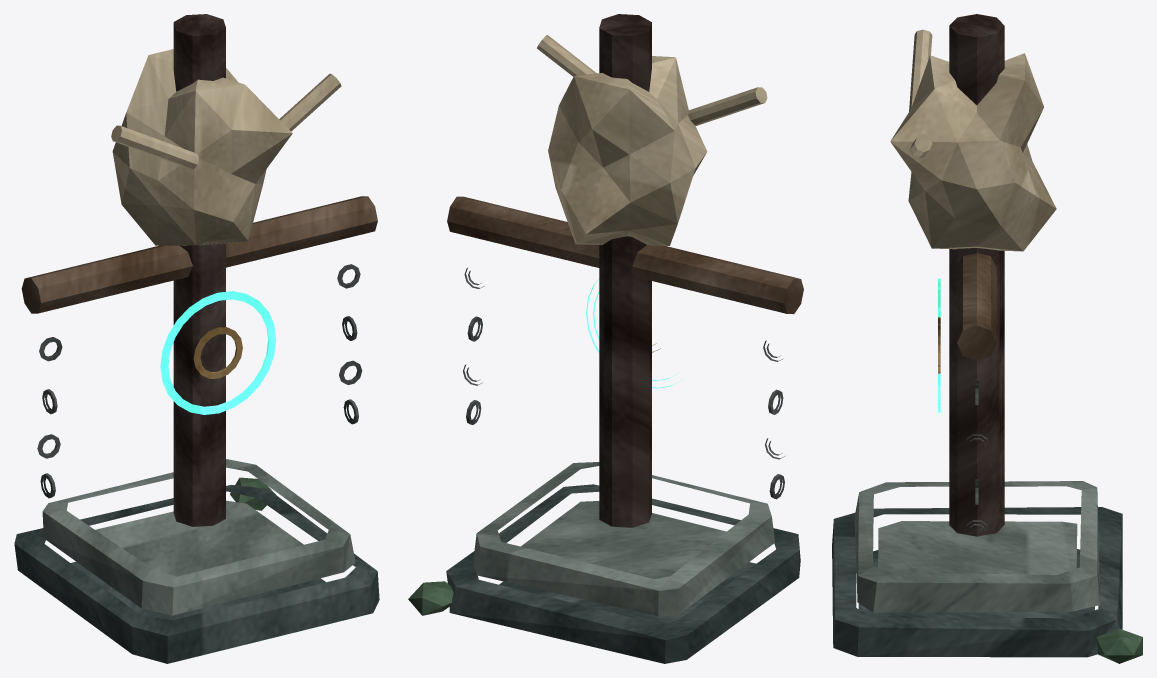
The model's file is 0503_effigy_03.glb.
The picture shows the model from 3 angles, left to right: view 1: azimuth 30°, elevation 25°; view 2: azimuth 150°, elevation 25°; view 3: azimuth 270°, elevation 25°; orthographic projection.
Parts seen in each view (by area): view 1: bone, stone, stone_dark, wood_dark, wood, glow, iron, brass, moss; view 2: bone, stone, stone_dark, wood_dark, wood, iron, moss; view 3: bone, stone, stone_dark, wood_dark, wood, moss.
Boxes of the visible parts, x1,y1,x2,y2 form: bone: (111,49,341,245); stone: (42,459,355,615); stone_dark: (14,484,379,663); wood_dark: (173,14,225,526); wood: (21,196,377,313); glow: (160,291,276,414); iron: (37,264,362,498); brass: (193,327,242,378); moss: (230,477,276,510); bone: (537,35,767,245); stone: (473,462,774,616); stone_dark: (446,484,800,663); wood_dark: (599,14,651,527); wood: (447,196,803,314); iron: (463,267,784,499); moss: (408,581,453,615); bone: (890,29,1056,251); stone: (854,481,1100,612); stone_dark: (832,507,1122,657); wood_dark: (949,14,1004,536); wood: (957,253,996,360); moss: (1096,628,1142,663).
Bounding box in the file's own units: 2 × 3.2 × 1.57.
Materials: 9 (9 with a texture image).
